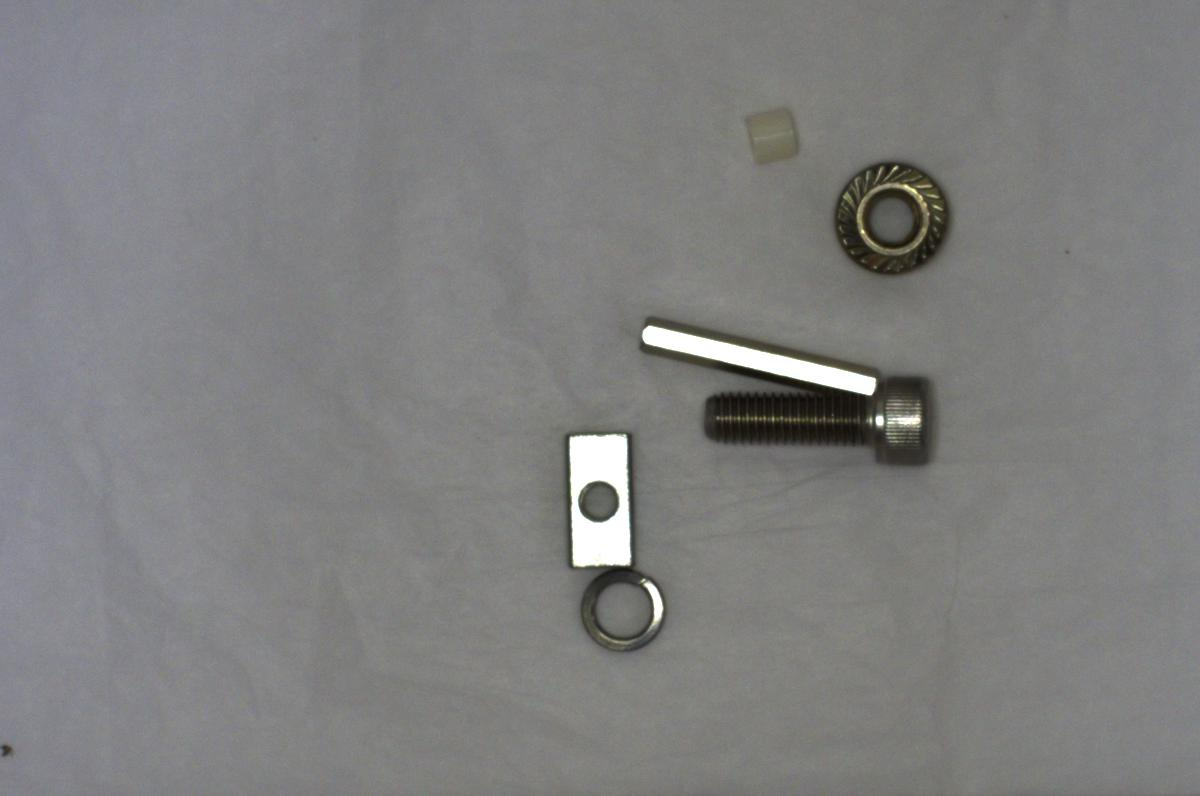Double hexagonal column: (624, 313, 887, 398)
Flange nut: (824, 149, 958, 277)
Hexagon screw: (698, 371, 946, 473)
Plastic cushion pillar: (737, 95, 812, 169)
Rectangular nut: (562, 423, 638, 567)
Spring washer: (565, 560, 682, 662)
